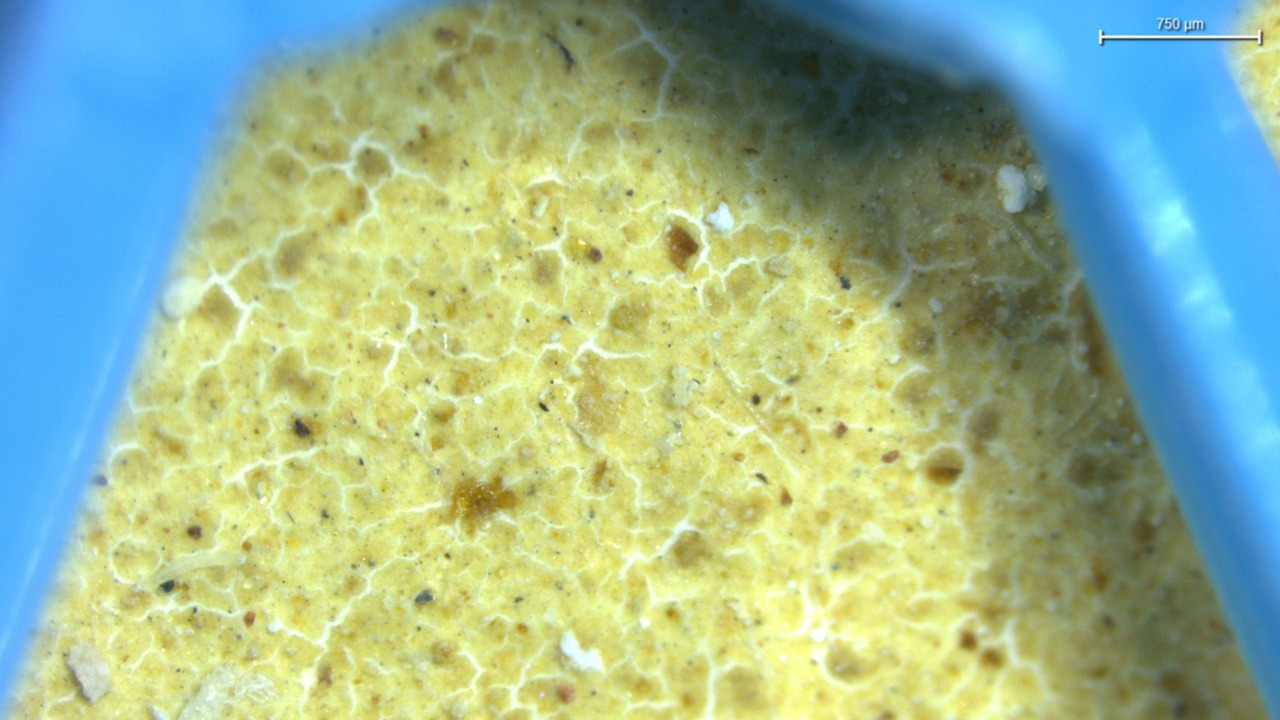microplastic_fragment: (67, 642, 111, 703), (996, 165, 1034, 213), (706, 201, 734, 232)
